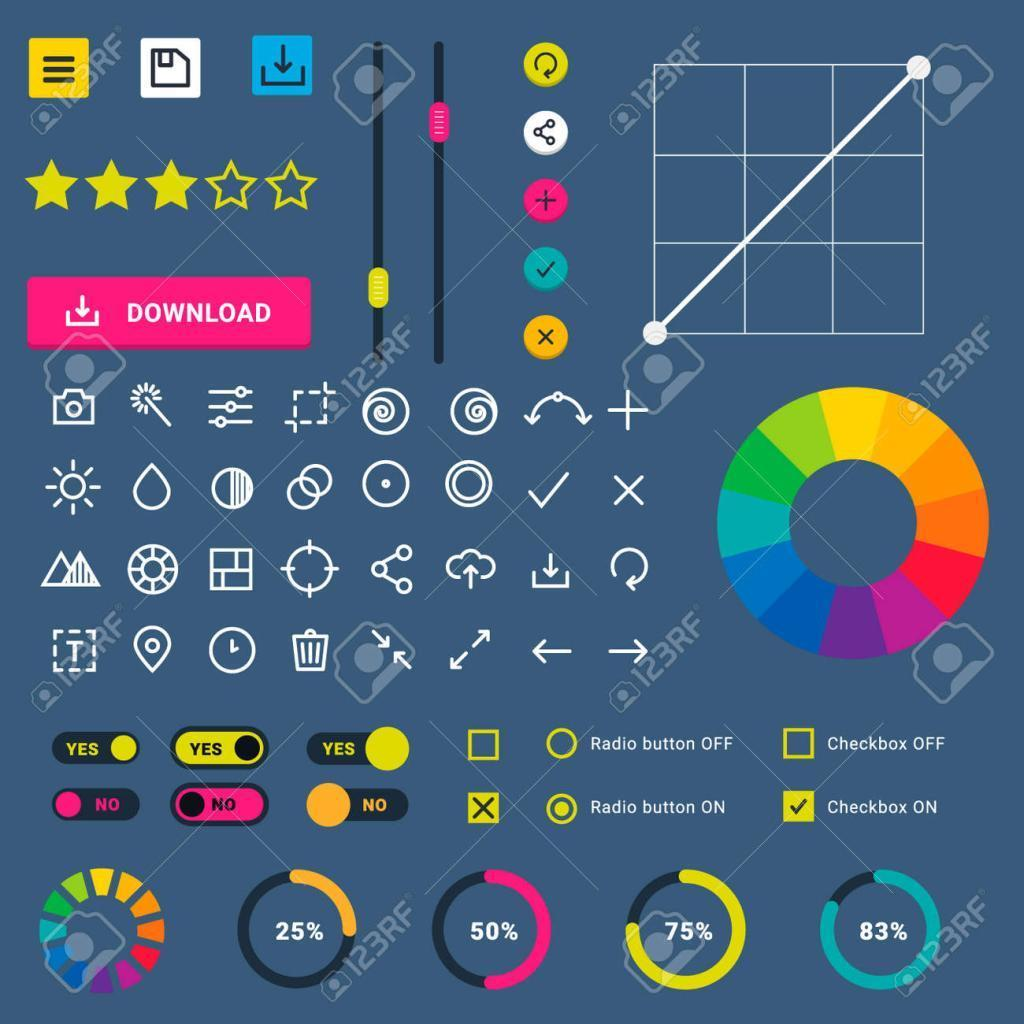button: (24, 277, 313, 352)
checkbox: (465, 789, 506, 827), (463, 726, 502, 765), (781, 789, 818, 826), (783, 727, 816, 763)
icon: (273, 540, 337, 603), (42, 455, 104, 520), (140, 38, 205, 100), (363, 537, 418, 606), (196, 384, 266, 438), (524, 385, 594, 438), (30, 35, 88, 98), (365, 621, 423, 682), (46, 623, 104, 682), (129, 541, 183, 602), (204, 624, 261, 681), (203, 541, 261, 597), (441, 540, 497, 597), (285, 382, 341, 438), (359, 455, 415, 511), (255, 38, 311, 94), (46, 382, 101, 438), (125, 382, 180, 436), (521, 462, 577, 515), (447, 385, 501, 439), (442, 454, 494, 510), (362, 384, 413, 440), (125, 460, 177, 514), (525, 546, 577, 600), (131, 621, 177, 679), (522, 108, 573, 159), (41, 550, 101, 593), (606, 537, 650, 595), (284, 462, 336, 511), (287, 626, 333, 681), (603, 383, 648, 439), (445, 627, 493, 678), (604, 463, 651, 514), (207, 467, 258, 513), (524, 42, 571, 90), (525, 248, 571, 293), (524, 317, 571, 361), (522, 180, 570, 222), (531, 629, 572, 671), (602, 632, 654, 664)
radio: (544, 728, 583, 763), (546, 792, 579, 828)
slider: (419, 37, 461, 374), (363, 37, 395, 358)
switch: (167, 727, 276, 776), (306, 782, 411, 830), (305, 726, 411, 773), (171, 782, 274, 830), (49, 781, 141, 828), (53, 727, 142, 767)
